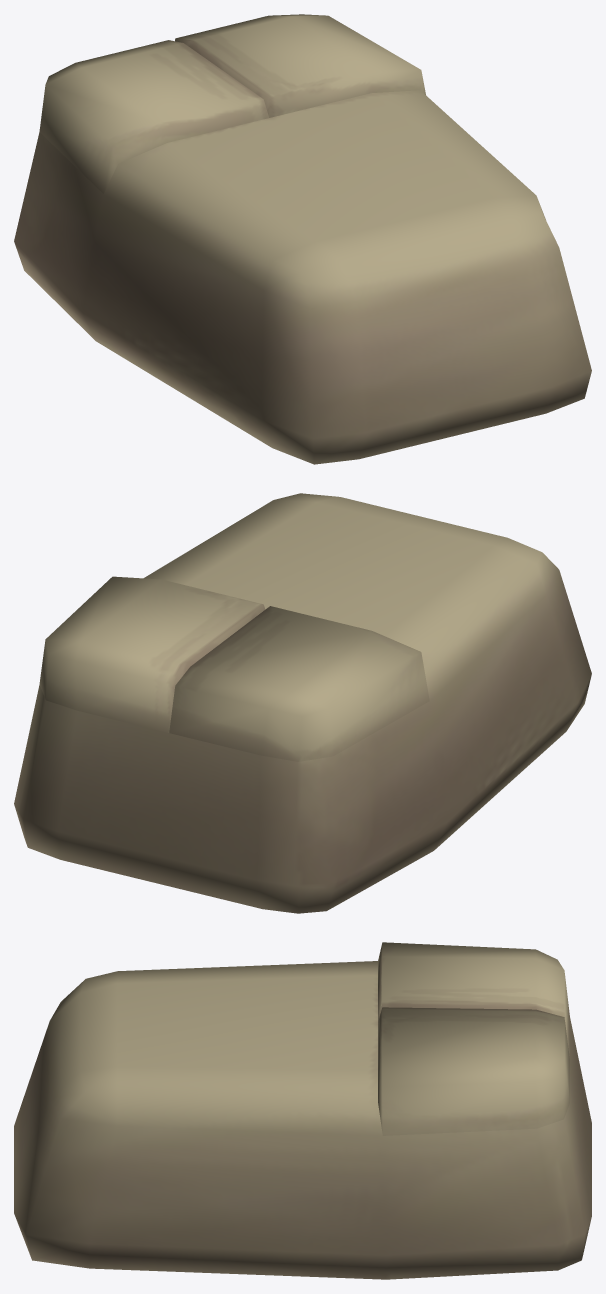
The model's file is PRP_Mouse.fbx.
3 renders of one model, top to bottom at view 1: azimuth 30°, elevation 25°; view 2: azimuth 150°, elevation 25°; view 3: azimuth 270°, elevation 25°, orthographic. The views are drawn at different scales.
Parts seen in each view (by area): view 1: Cube.001; view 2: Cube.001; view 3: Cube.001.
Boxes of the visible parts, x1,y1,x2,y2 form: Cube.001: (14, 14, 591, 464); Cube.001: (14, 493, 591, 913); Cube.001: (14, 942, 591, 1279).
Size of the model in its own units: 68.36 by 40.28 by 97.8.
1 material, 1 textured.
